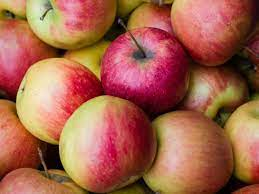apple: (57, 94, 159, 194), (14, 56, 109, 147), (100, 18, 191, 112), (143, 109, 235, 194), (168, 2, 259, 69), (24, 1, 116, 49)
